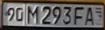0: (15, 7, 24, 23)
2: (40, 5, 52, 25)
3: (62, 5, 73, 25)
9: (51, 6, 63, 25), (6, 7, 15, 23)
A: (85, 7, 96, 26)
F: (72, 6, 85, 26)
M: (26, 5, 39, 24)
